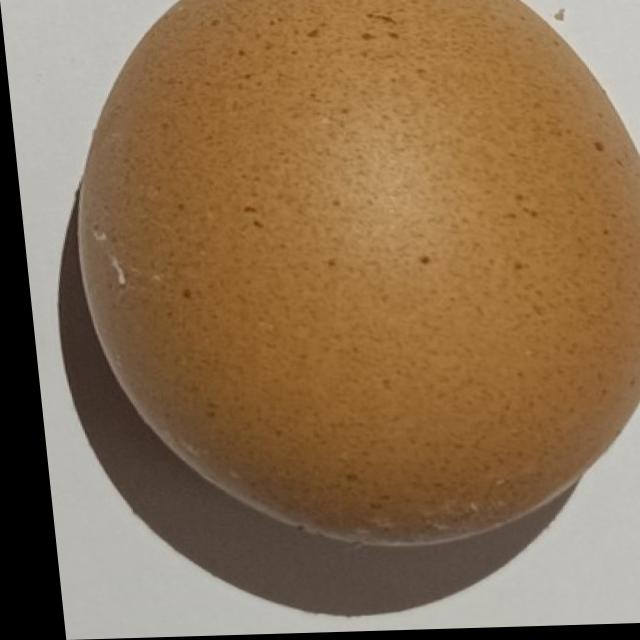unfresh: (53, 0, 640, 549)
